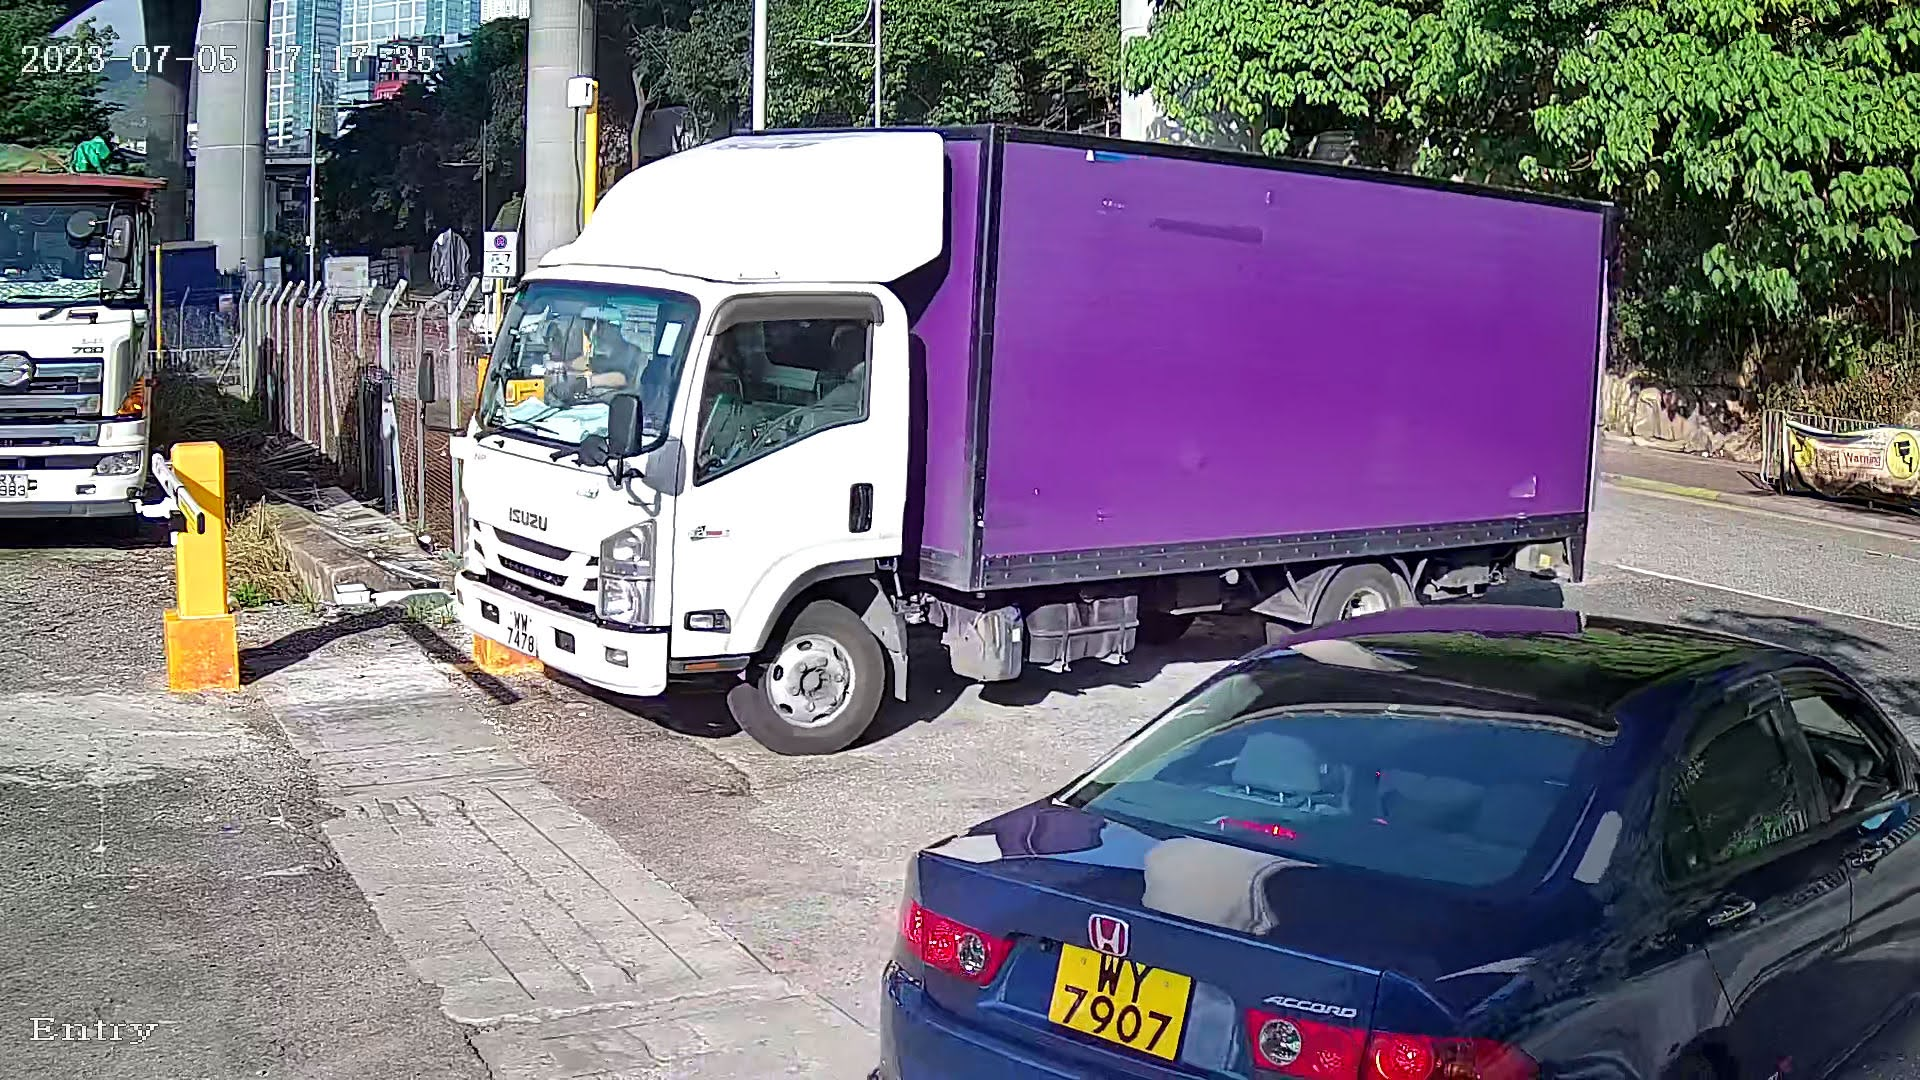privatecar: (823, 550, 1920, 1075)
truck: (425, 102, 1642, 766)
